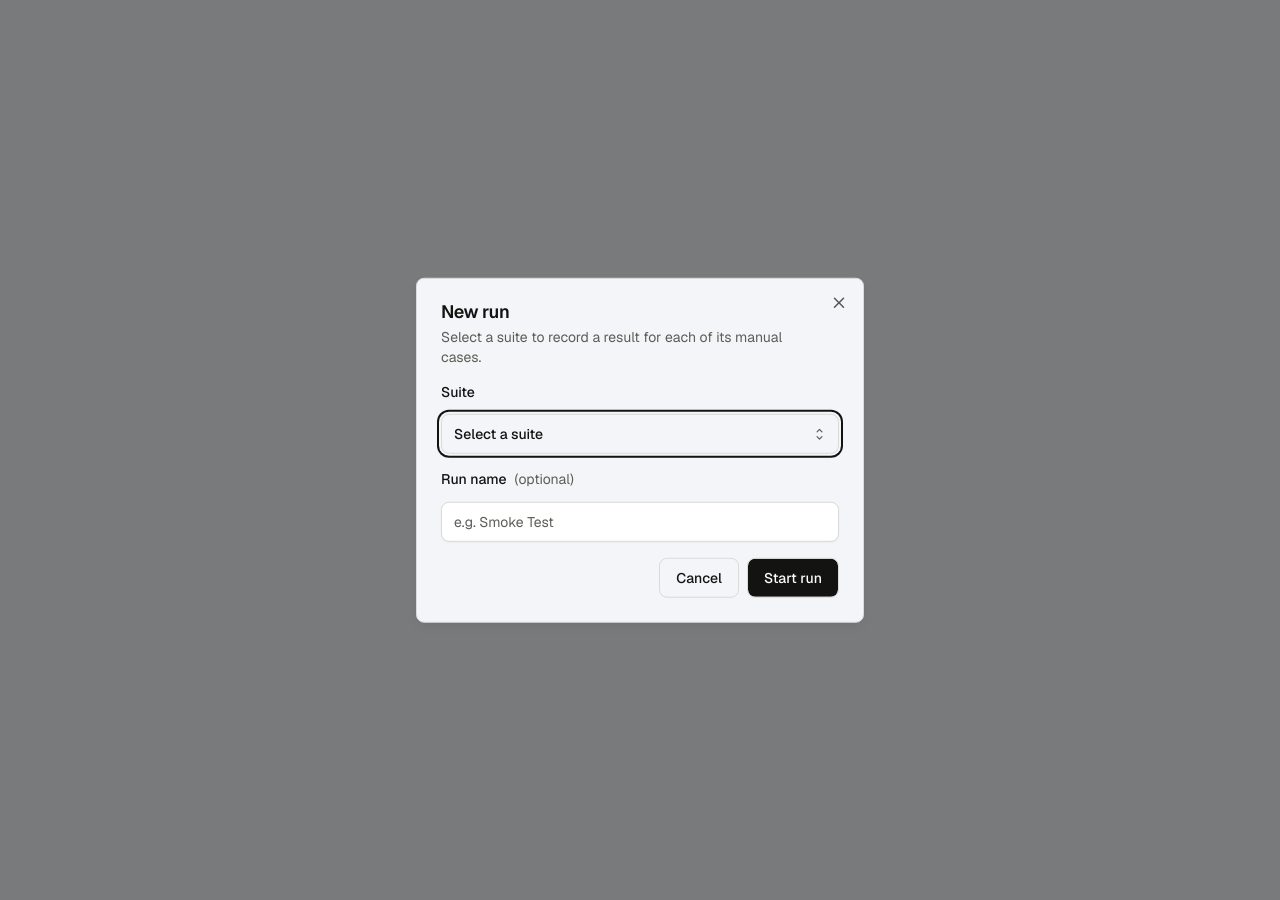
Test: NewRunForm › shows error when submitting without suite
Click the button "Start run" at (793, 577), box [747,557,839,597]
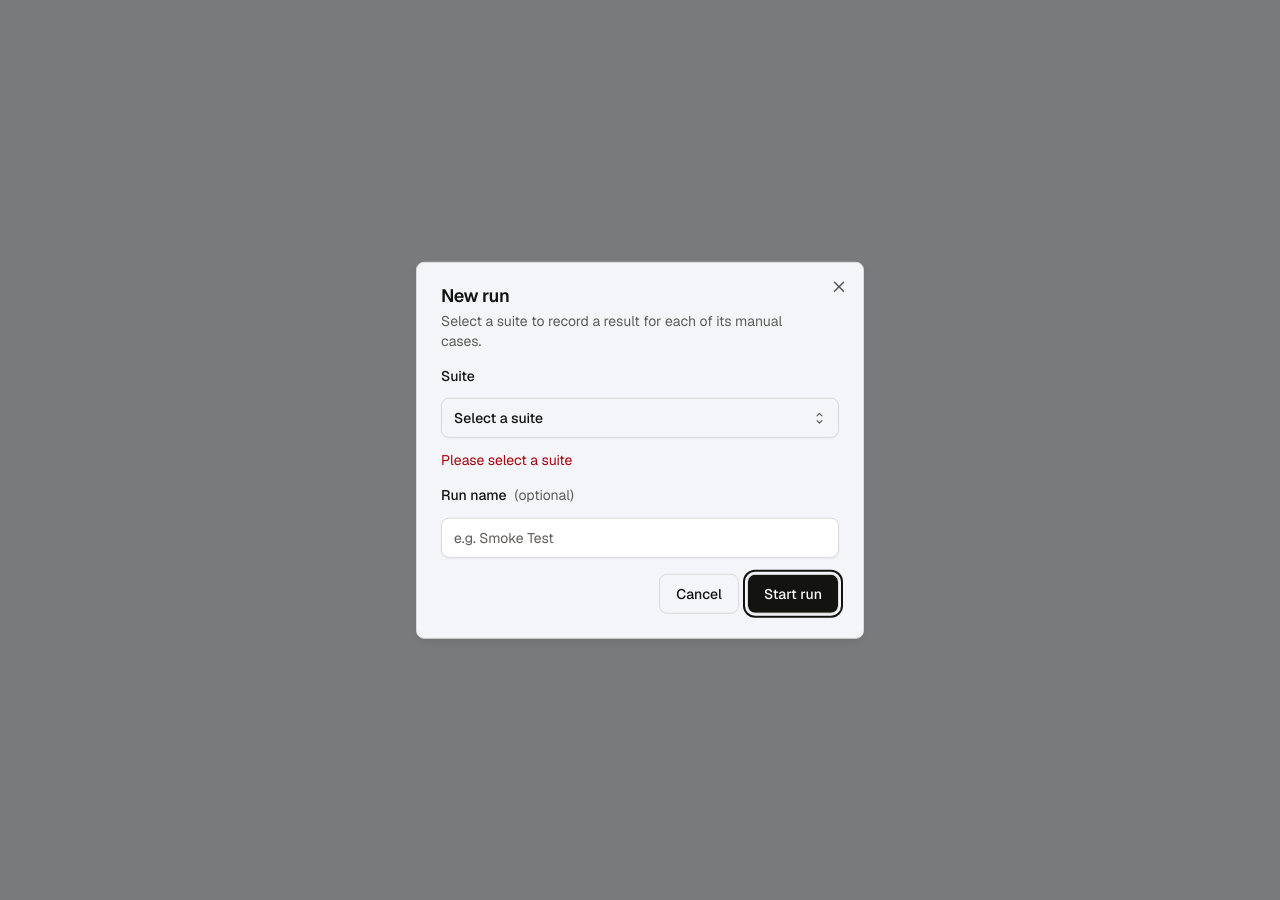
Expected: the text "Please select a suite" is shown, [441,451,572,469]
